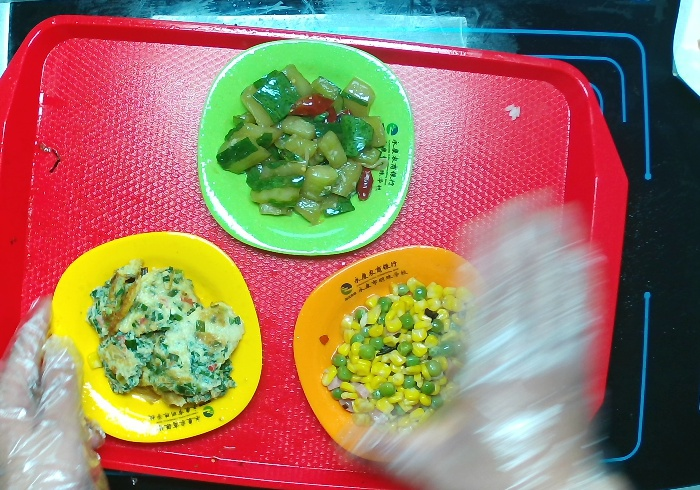YKMZ-Huang_Se_Fang_Die: (50, 230, 264, 444)
YKMZ-Lv_Se_Fang_Die: (196, 38, 416, 257)
